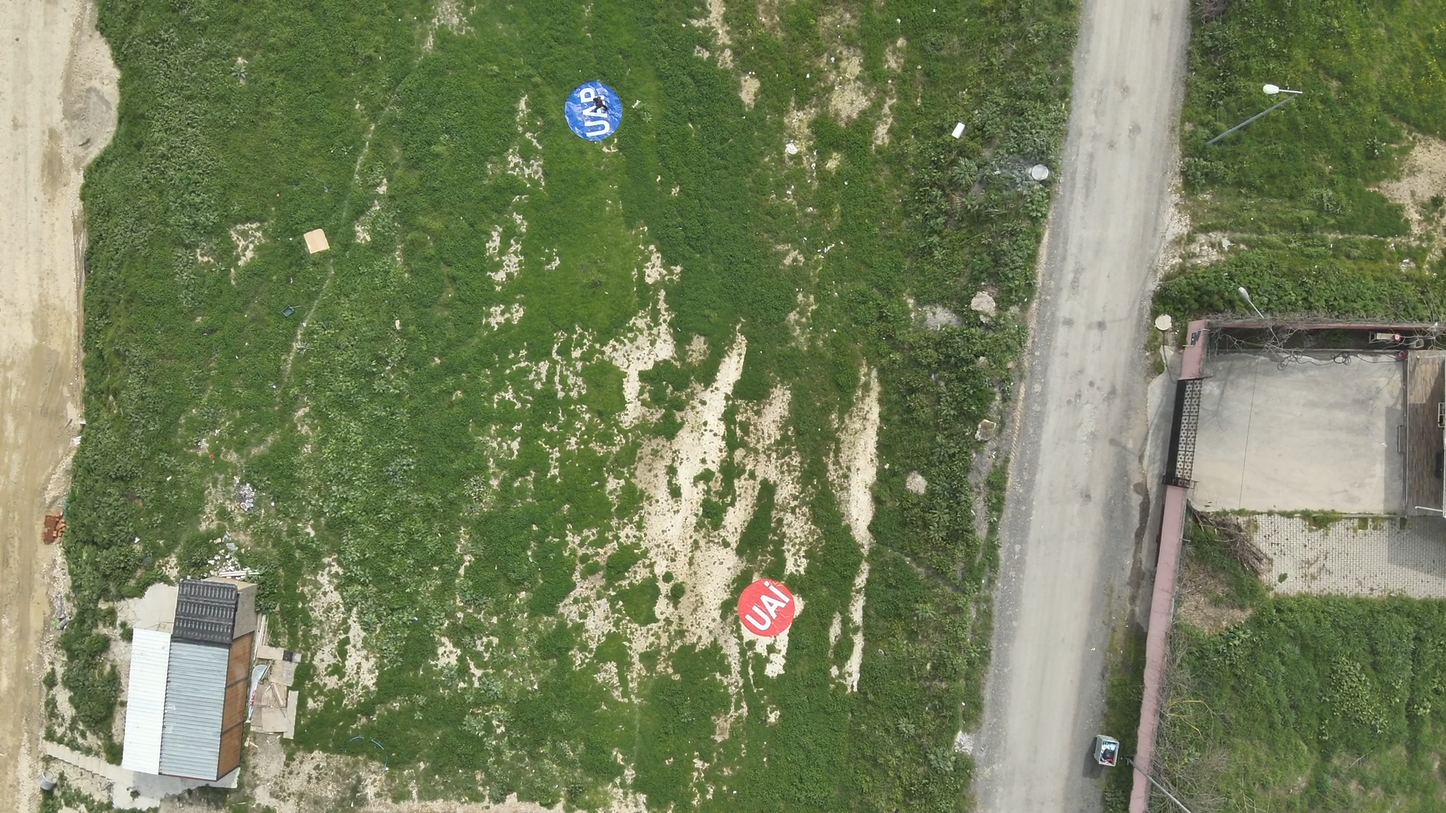UAI: (737, 578, 797, 635)
UAP: (564, 79, 625, 140)
person: (589, 93, 613, 117)
